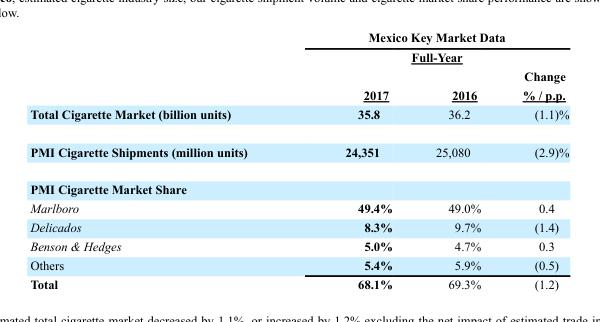table: (29, 29, 568, 290)
table column: (29, 29, 295, 290), (295, 29, 413, 290), (413, 29, 501, 290), (501, 29, 568, 290)
table column header: (29, 29, 568, 103)
table projected row header: (29, 170, 568, 198)
table row: (29, 132, 568, 170), (29, 29, 568, 66), (29, 66, 568, 103), (29, 103, 568, 132), (29, 170, 568, 198), (29, 198, 568, 217), (29, 217, 568, 236), (29, 236, 568, 255), (29, 255, 568, 274), (29, 274, 568, 290)
table spanning cell: (295, 29, 568, 66)
